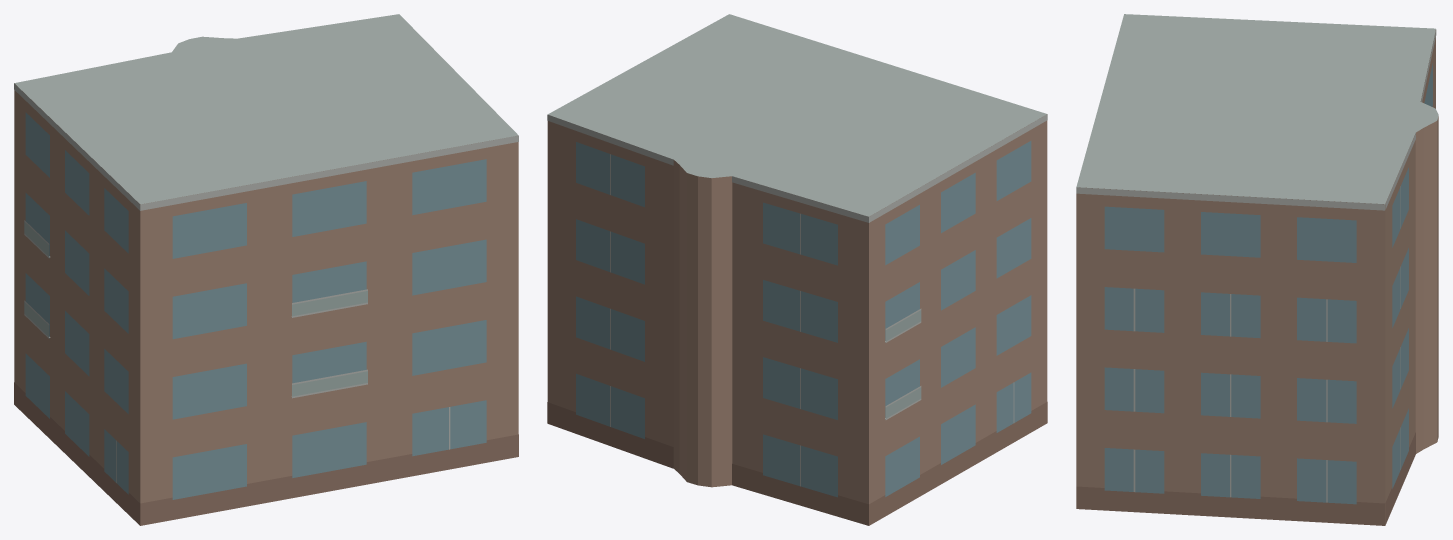
The model's file is survey-upis-33010478.glb.
3 renders of one model, left to right at view 1: azimuth 30°, elevation 25°; view 2: azimuth 150°, elevation 25°; view 3: azimuth 270°, elevation 25°, orthographic. The views are drawn at different scales.
Visible parts, largest first — view 1: survey-upis-33010478.tmp; view 2: survey-upis-33010478.tmp; view 3: survey-upis-33010478.tmp.
Part boxes in pixels (bbox=[...]): survey-upis-33010478.tmp: bbox=[14, 14, 518, 525]; survey-upis-33010478.tmp: bbox=[547, 14, 1047, 525]; survey-upis-33010478.tmp: bbox=[1076, 14, 1438, 525].
Bounding box in the file's own units: 15.48 × 12.2 × 12.46.
